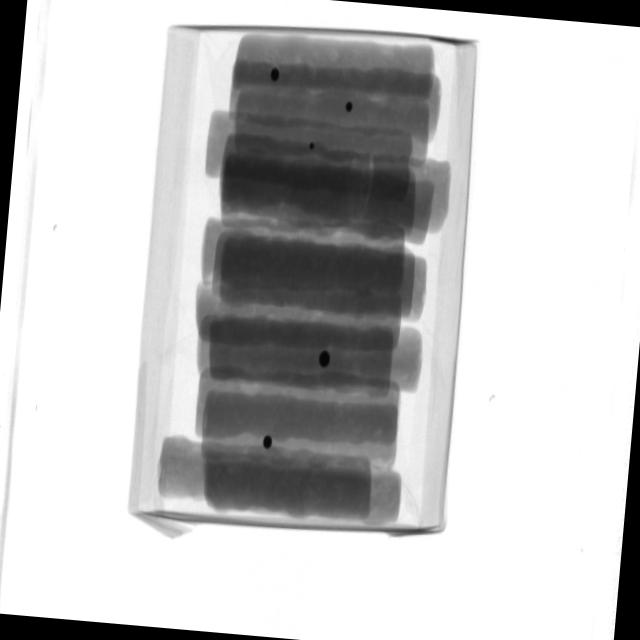ym: (319, 350, 331, 369), (270, 68, 281, 83), (263, 437, 274, 451), (345, 102, 354, 113), (308, 142, 316, 150)
